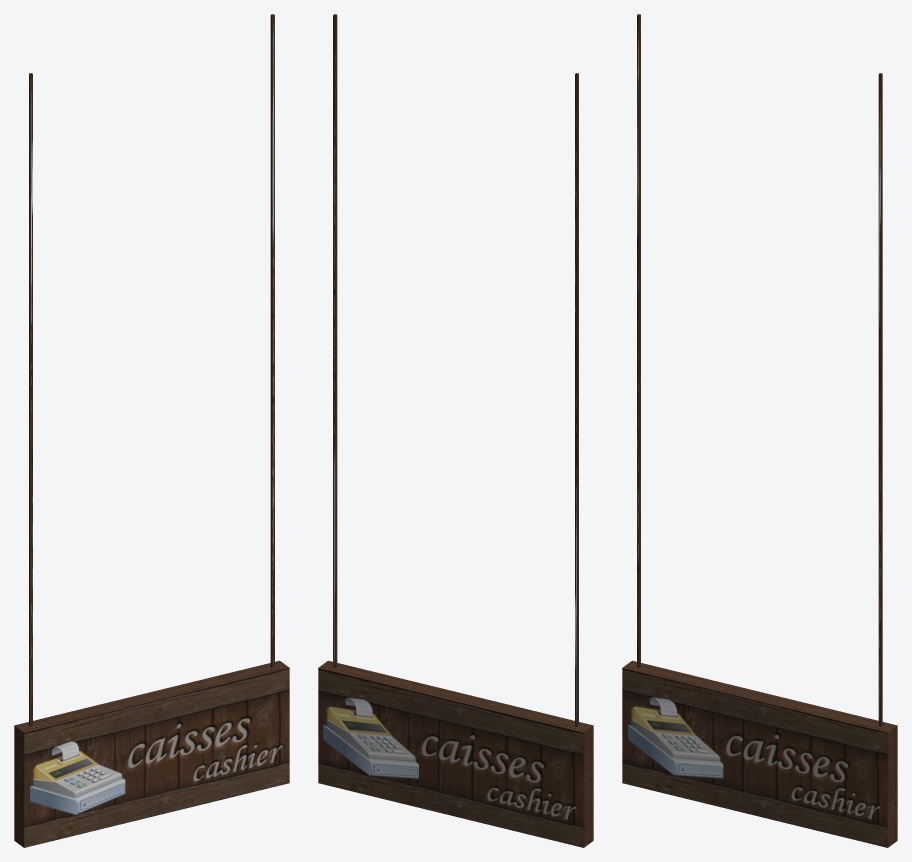
Rendered from SM_Signs_04.FBX.
3 views of the same model, side by side, from view 1: azimuth 30°, elevation 25°; view 2: azimuth 150°, elevation 25°; view 3: azimuth 330°, elevation 25° (orthographic).
Visible parts, largest first — view 1: SM_Signs_04; view 2: SM_Signs_04; view 3: SM_Signs_04.
Boxes of the visible parts, left/top/right/bottom form: SM_Signs_04: left=14, top=14, right=289, bottom=847; SM_Signs_04: left=318, top=14, right=593, bottom=847; SM_Signs_04: left=622, top=14, right=897, bottom=847.
Bounding box in the file's own units: 83.45 × 230 × 5.42.
